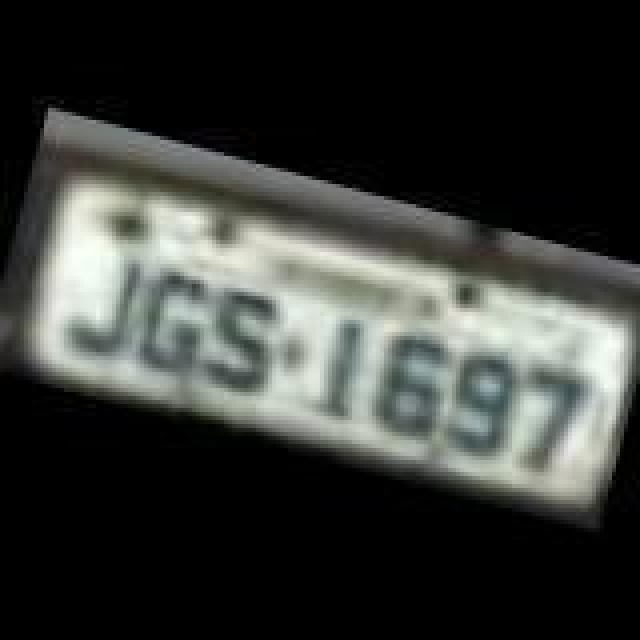1: (304, 306, 376, 422)
6: (364, 324, 460, 444)
7: (494, 350, 594, 482)
9: (438, 342, 522, 458)
G: (124, 258, 220, 382)
J: (60, 240, 148, 360)
S: (192, 276, 280, 396)
